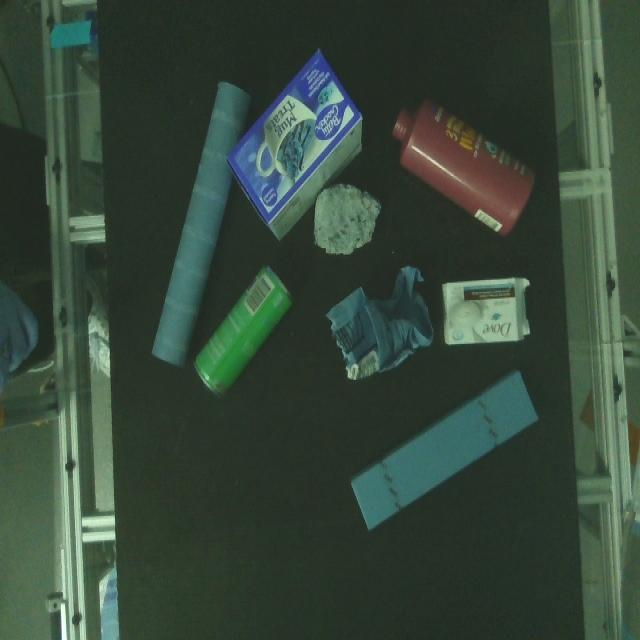non-paper: (383, 90, 544, 241), (186, 261, 296, 408), (305, 178, 380, 257)
paper: (347, 362, 543, 536), (146, 74, 257, 373), (226, 46, 368, 240), (326, 257, 438, 389), (441, 274, 535, 348)
